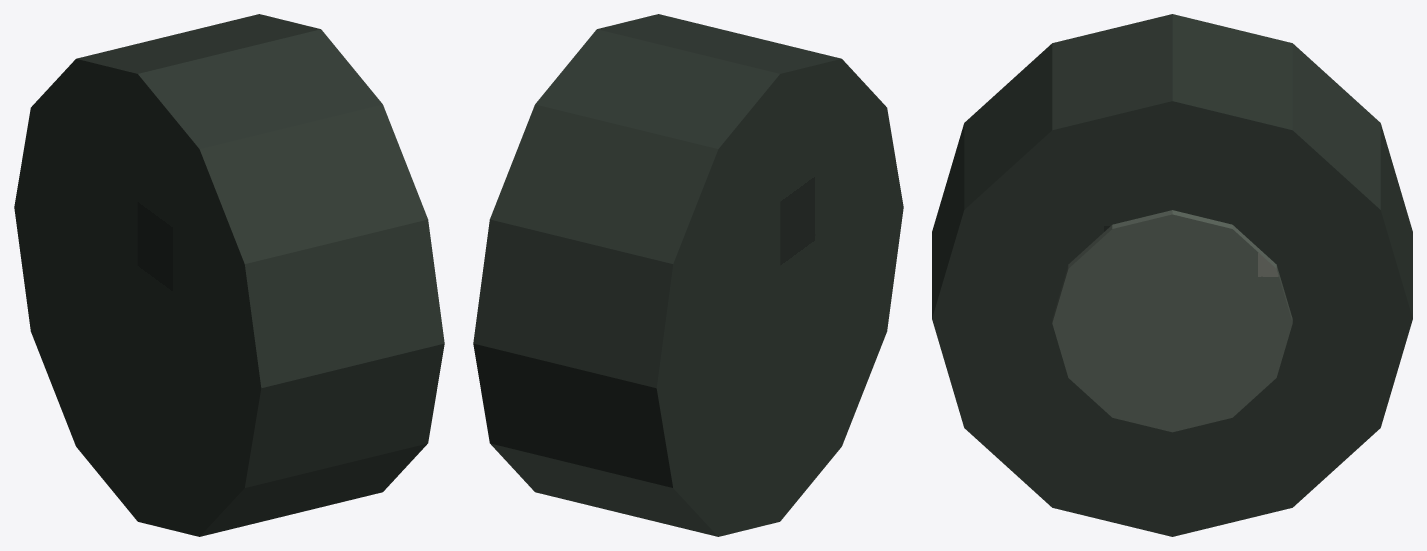
Rendered from tire.gltf.
The picture shows the model from 3 angles, left to right: view 1: azimuth 30°, elevation 25°; view 2: azimuth 150°, elevation 25°; view 3: azimuth 270°, elevation 25°; orthographic projection. The views are drawn at different scales.
Visible parts, largest first — view 1: tire; view 2: tire; view 3: tire, rim.
Part boxes in pixels (x1=…): tire: x1=14, y1=14, x2=444, y2=536; tire: x1=473, y1=14, x2=903, y2=536; tire: x1=932, y1=14, x2=1412, y2=536; rim: x1=1052, y1=210, x2=1292, y2=432.
Size of the model in its own units: 0.3937 by 0.875 by 0.875.
Materials: 2 (2 with a texture image).
